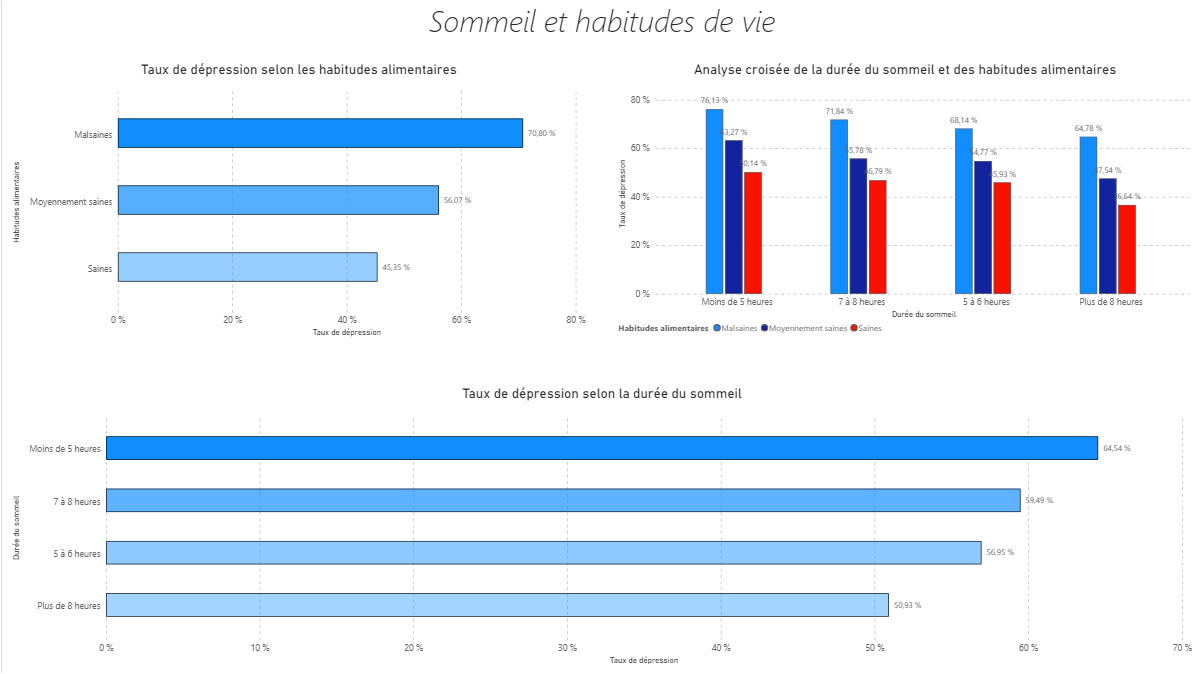

The page's visual inventory and layout, read from the dashboard file:
{"tool":"powerbi","page":{"name":"Sommeil et habitudes de vie","canvas":[1920,1080],"ordinal":3},"visuals":[{"type":"clusteredBarChart","title":"Taux de dépression selon la durée du sommeil","fields":{"Category":["Données des étudiants.Durée du sommeil"],"Y":["Données des étudiants.Taux de dépression"]},"box":[0,604,1920,476],"z":0},{"type":"clusteredBarChart","title":"Taux de dépression selon les habitudes alimentaires","fields":{"Category":["Données des étudiants.Habitudes alimentaires"],"Y":["Données des étudiants.Taux de dépression"]},"box":[0,86,950,470],"z":1000},{"type":"clusteredColumnChart","title":"Analyse croisée de la durée du sommeil et des habitudes alimentaires","fields":{"Category":["Données des étudiants.Durée du sommeil"],"Series":["Données des étudiants.Habitudes alimentaires"],"Y":["Données des étudiants.Taux de dépression"]},"box":[970,86,950,470],"z":2000},{"type":"textbox","box":[0,0,1920,86],"z":3000}]}

Visuals, with their boxes in screenshot pixels (x1, y1, x2, y2), scaled from the page's 1920x1080 canvas onto the 1199x674 screenshot:
"Taux de dépression selon la durée du sommeil" clusteredBarChart: box=[0, 377, 1198, 673]
"Taux de dépression selon les habitudes alimentaires" clusteredBarChart: box=[0, 54, 593, 347]
"Analyse croisée de la durée du sommeil et des habitudes alimentaires" clusteredColumnChart: box=[606, 54, 1198, 347]
textbox: box=[0, 0, 1198, 54]
